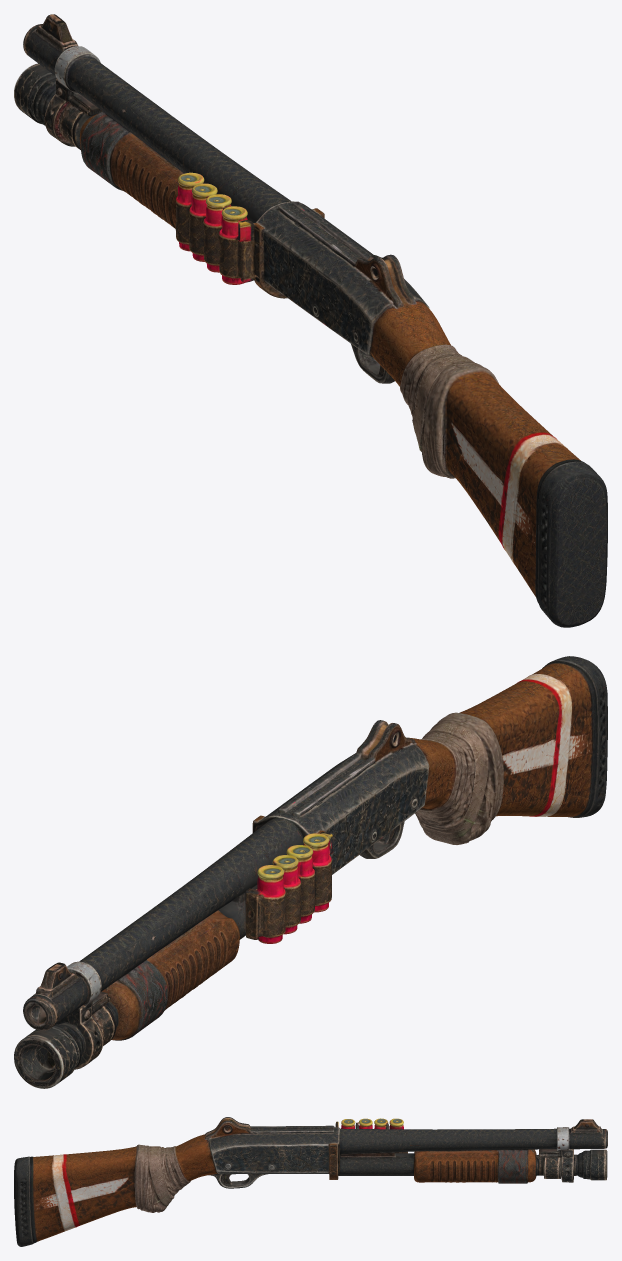
The model's file is shotgun-user.glb.
3 views of the same model, one above another, from view 1: azimuth 30°, elevation 25°; view 2: azimuth 150°, elevation 25°; view 3: azimuth 270°, elevation 25° (orthographic). The views are drawn at different scales.
Parts seen in each view (by area): view 1: shotgun; view 2: shotgun; view 3: shotgun.
Boxes of the visible parts, x1=… form: shotgun: x1=14, y1=14, x2=607, y2=627; shotgun: x1=14, y1=656, x2=607, y2=1088; shotgun: x1=14, y1=1117, x2=607, y2=1246.
Bounding box in the file's own units: 0.0954 × 0.229 × 0.98.
Materials: 1 (1 with a texture image).
